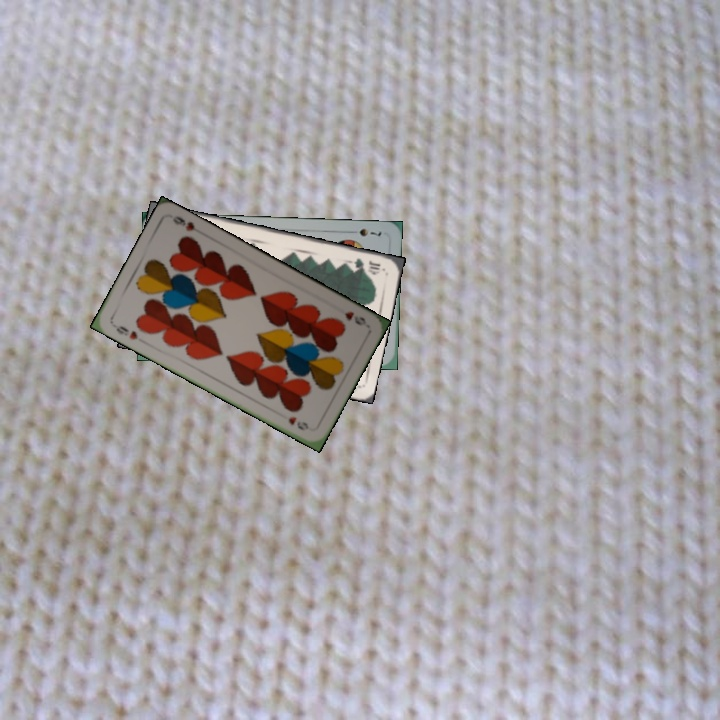G10: (350, 254, 383, 276)
H9: (340, 307, 369, 328), (112, 322, 140, 342)
S7: (356, 224, 384, 239)
